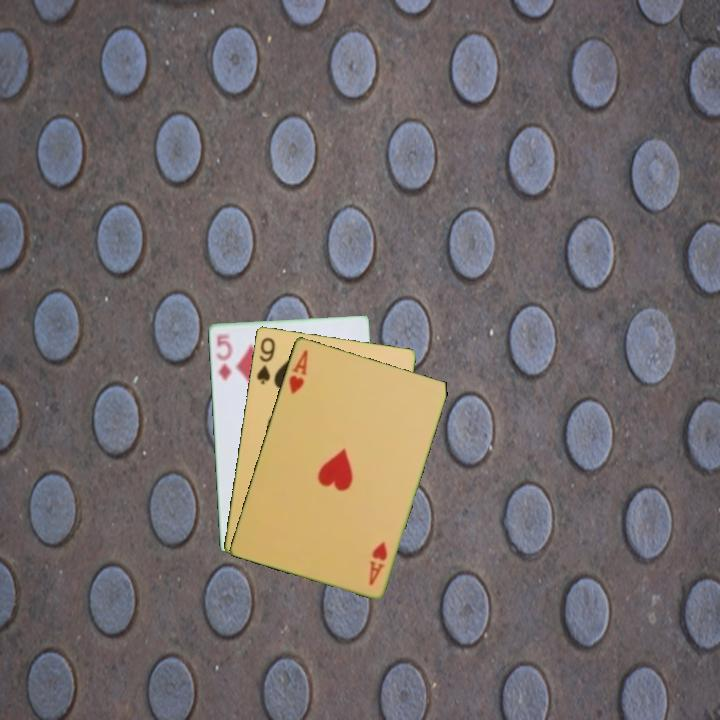5d: (211, 329, 235, 384)
9s: (253, 334, 278, 387)
Ah: (285, 346, 310, 397), (365, 537, 390, 588)
